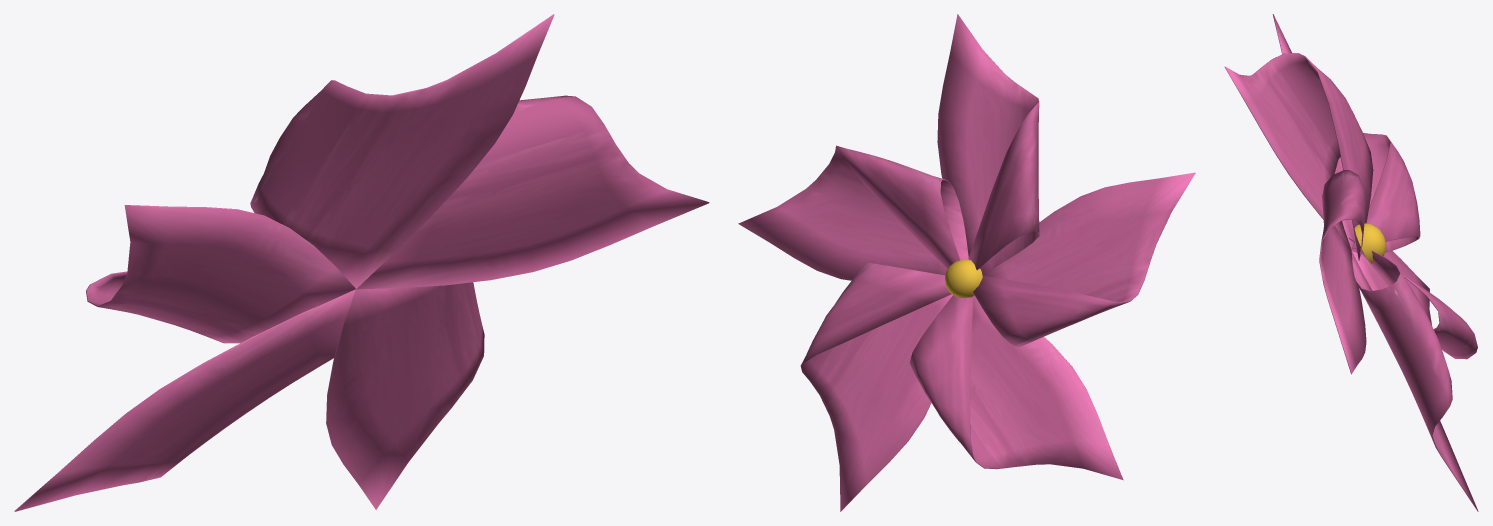
The model's file is FlorCataVento.fbx.
3 renders of one model, left to right at view 1: azimuth 30°, elevation 25°; view 2: azimuth 150°, elevation 25°; view 3: azimuth 270°, elevation 25°, orthographic. The views are drawn at different scales.
Parts seen in each view (by area): view 1: Flor Cata-Vento; view 2: Flor Cata-Vento; view 3: Flor Cata-Vento.
Boxes of the visible parts, x1,y1,x2,y2 form: Flor Cata-Vento: (14,14,709,511); Flor Cata-Vento: (738,14,1195,511); Flor Cata-Vento: (1224,14,1478,511).
Size of the model in its own units: 218 by 204 by 105.
